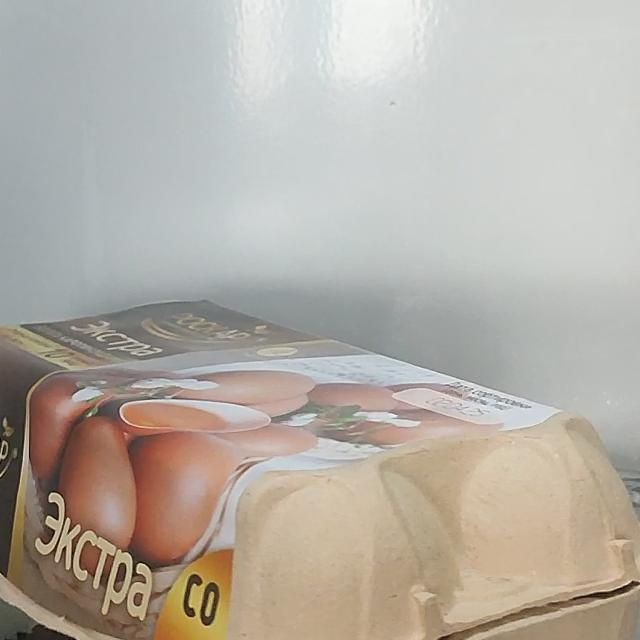egg: (0, 286, 640, 640)
